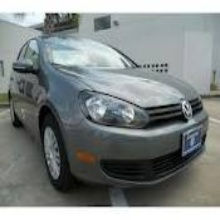no damage: (8, 34, 210, 193)
